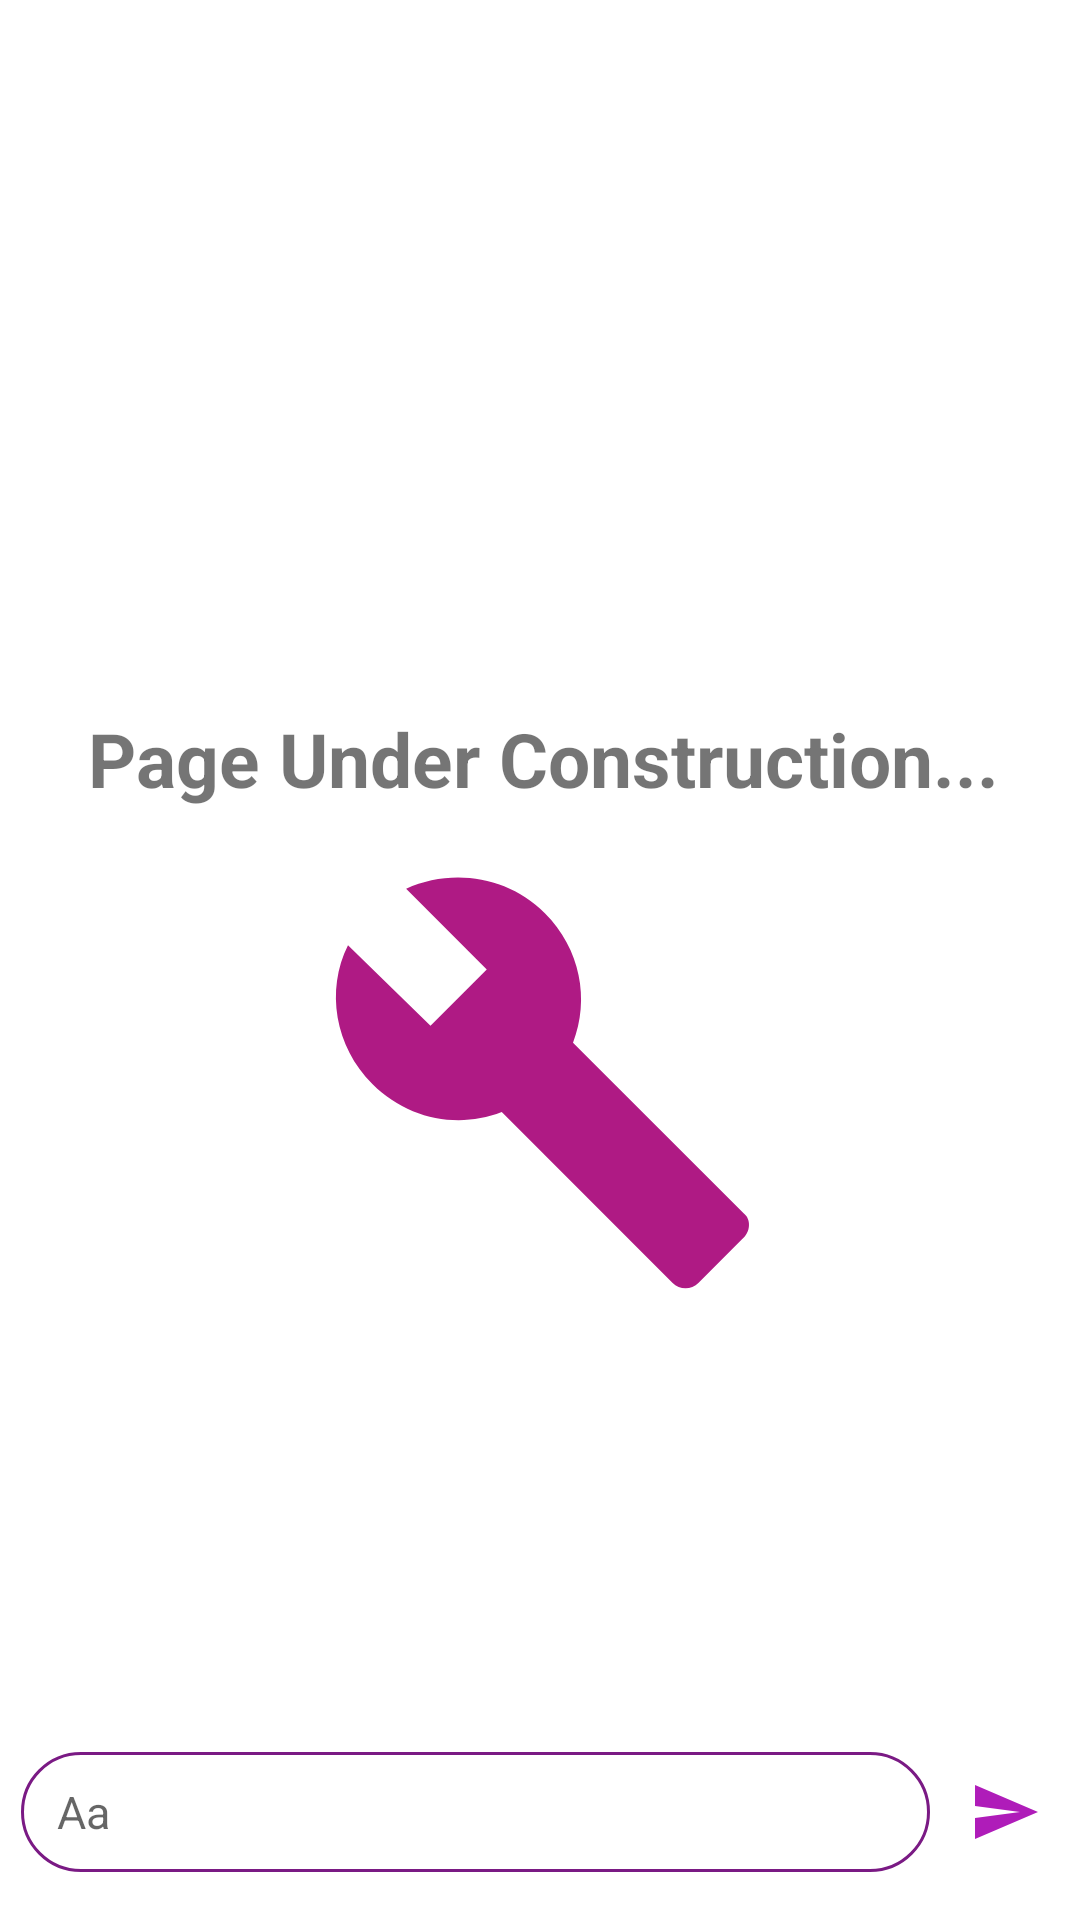

Screen size 1080px x 1920px. Icon name, then its center in pixels as [x,y]:
send: [1006,1812]
